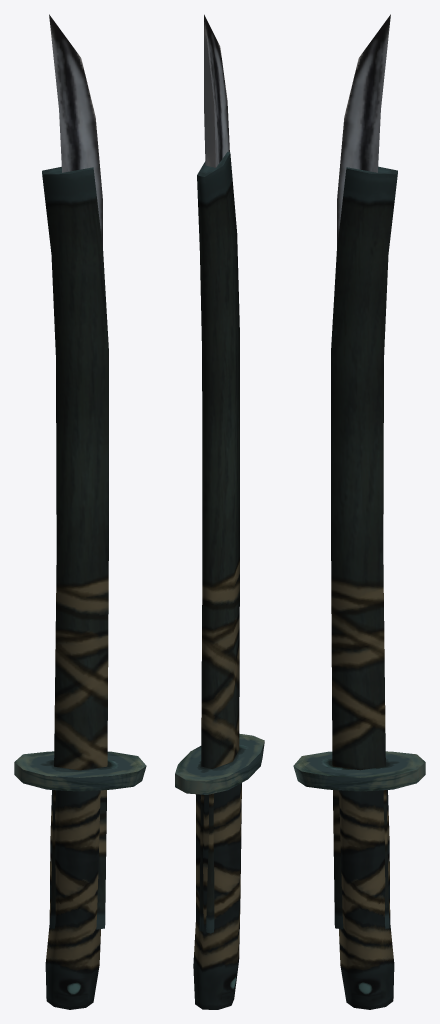
The model's file is WP_1H_Katana02.FBX.
The picture shows the model from 3 angles, left to right: view 1: azimuth 90°, elevation 25°; view 2: azimuth 150°, elevation 25°; view 3: azimuth 270°, elevation 25°; orthographic projection.
Parts seen in each view (by area): view 1: WP_1H_KatanaScabbard02, WP_1H_Katana02; view 2: WP_1H_KatanaScabbard02, WP_1H_Katana02; view 3: WP_1H_KatanaScabbard02, WP_1H_Katana02.
Boxes of the visible parts, <box> form: WP_1H_KatanaScabbard02: <box>42,167,108,929</box>; WP_1H_Katana02: <box>14,14,146,1009</box>; WP_1H_KatanaScabbard02: <box>197,152,239,933</box>; WP_1H_Katana02: <box>175,14,264,1009</box>; WP_1H_KatanaScabbard02: <box>331,166,397,929</box>; WP_1H_Katana02: <box>293,14,425,1009</box>.
Bounding box in the file's own units: 7.22 × 119 × 14.44.
